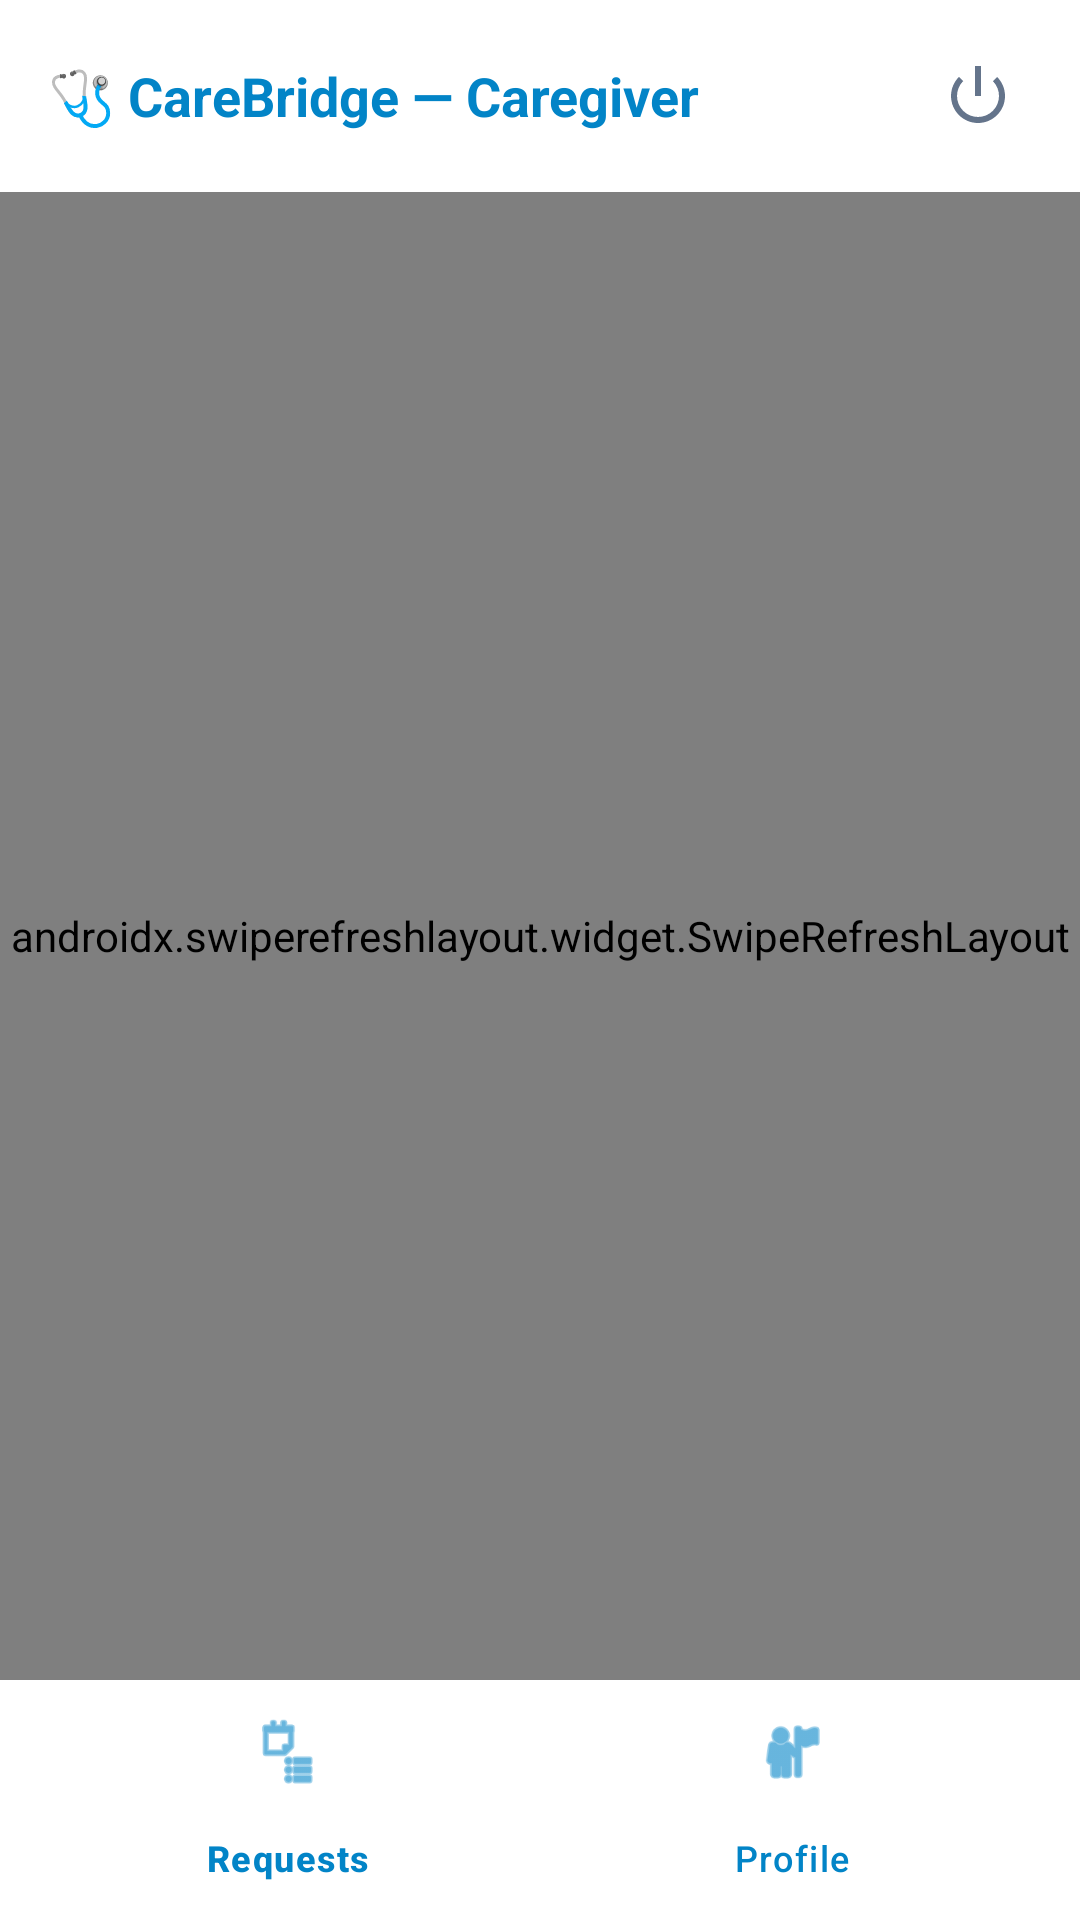

Named icons in this screenshot (1080w x 1920h) and their bounding boxes, [x1, y1, x2, y2]:
lock power off: [951, 66, 1005, 123]
